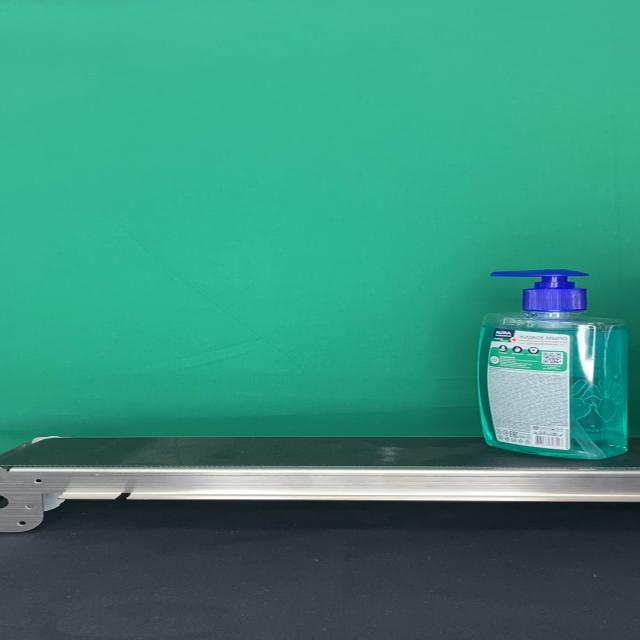Bottle: (479, 269, 627, 459)
Cap: (492, 269, 592, 311)
